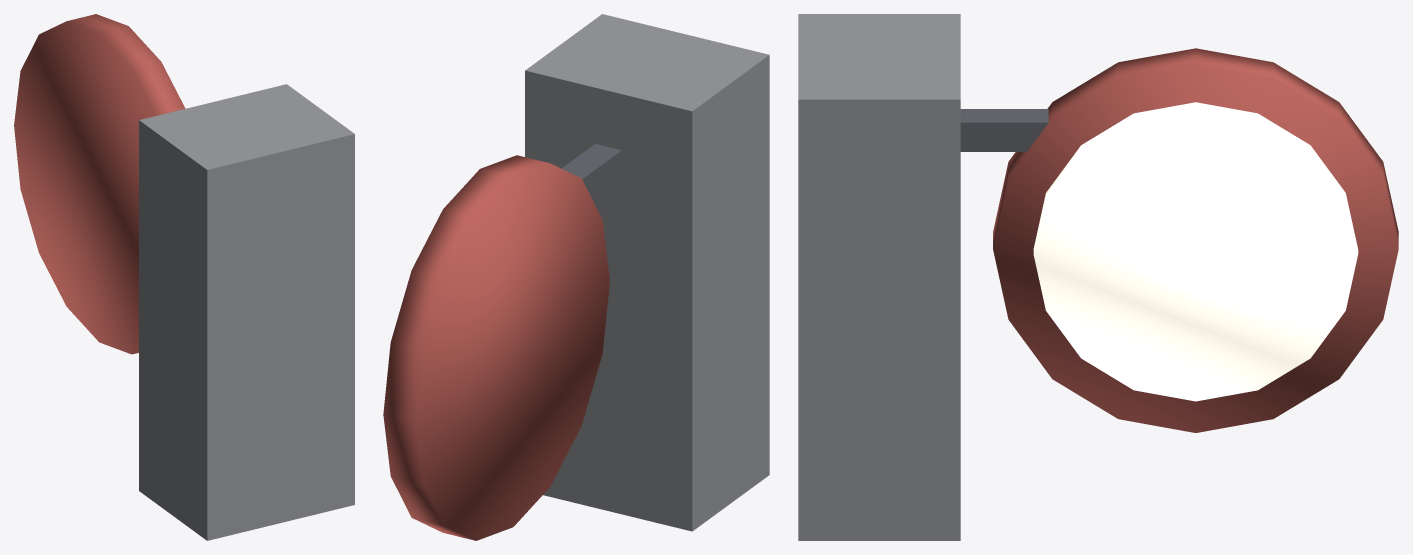
Rendered from prop_kanban_sode_round_red.glb.
The picture shows the model from 3 angles, left to right: view 1: azimuth 30°, elevation 25°; view 2: azimuth 150°, elevation 25°; view 3: azimuth 270°, elevation 25°; orthographic projection. The views are drawn at different scales.
Parts seen in each view (by area): view 1: kanban_sode_round_red; view 2: kanban_sode_round_red; view 3: kanban_sode_round_red.
Boxes of the visible parts, bbox=[...] form: kanban_sode_round_red: bbox=[14, 14, 354, 540]; kanban_sode_round_red: bbox=[383, 14, 769, 540]; kanban_sode_round_red: bbox=[798, 14, 1398, 540].
Bounding box in the file's own units: 0.5 × 1.2 × 1.48.
